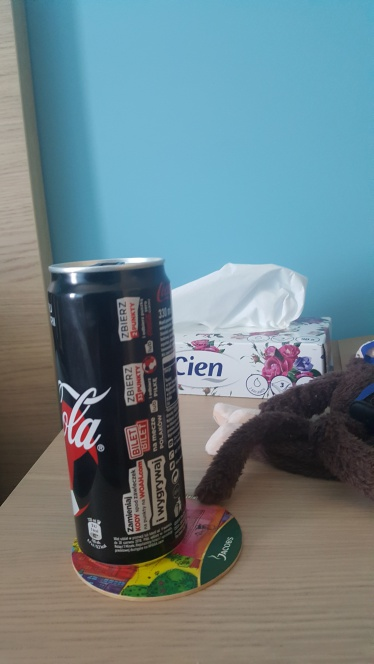colazero: (37, 252, 188, 563)
